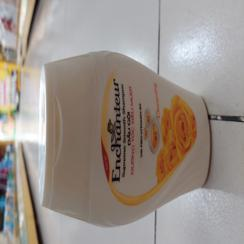enchanter: (33, 51, 216, 225)
